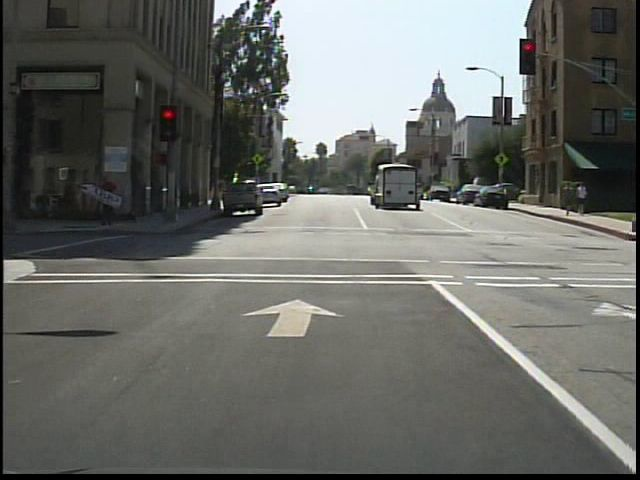person: (94, 171, 126, 230), (561, 182, 576, 219), (573, 182, 588, 217)
